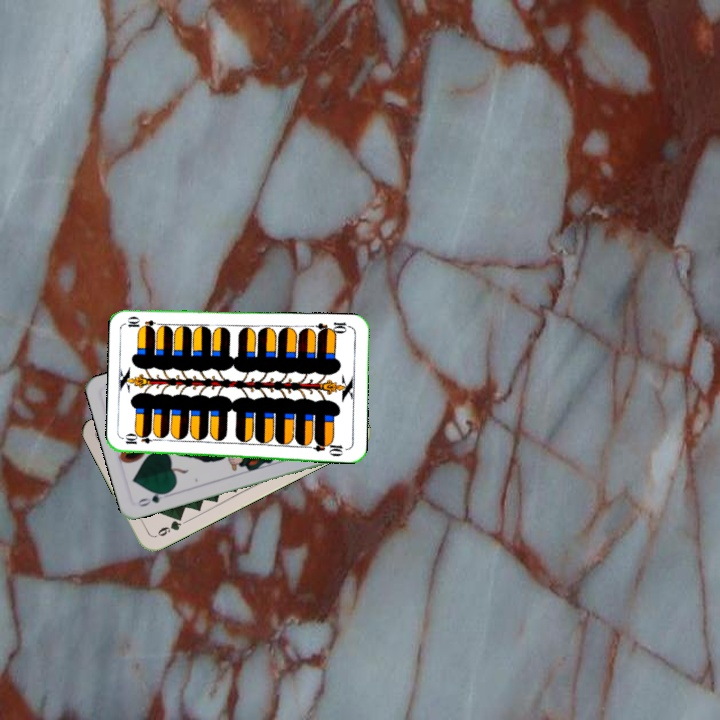E10: (313, 318, 353, 337), (121, 433, 162, 447)
G9: (153, 512, 185, 539)
GO: (134, 487, 173, 509)
